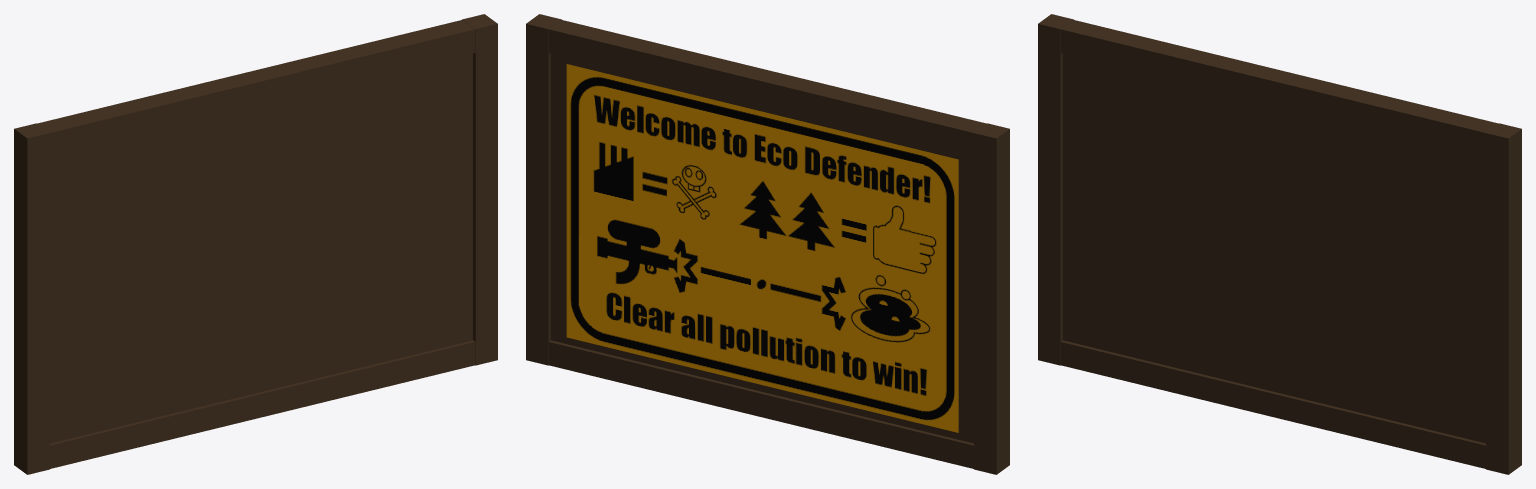
Rendered from sign.fbx.
3 views of the same model, side by side, from view 1: azimuth 30°, elevation 25°; view 2: azimuth 150°, elevation 25°; view 3: azimuth 330°, elevation 25° (orthographic).
Visible parts, largest first — view 1: Cube.003, Cube.002, Cube.001, Cube, Cube.004; view 2: eco_defender_sign, Cube.002, Cube.003, Cube.001, Cube, Cube.004; view 3: Cube.003, Cube.002, Cube.004, Cube, Cube.001.
Part boxes in pixels (x1=…): Cube.003: x1=50, y1=53, x2=472, y2=443; Cube.002: x1=37, y1=20, x2=475, y2=156; Cube.001: x1=14, y1=123, x2=49, y2=474; Cube: x1=50, y1=340, x2=475, y2=468; Cube.004: x1=462, y1=14, x2=497, y2=365; eco_defender_sign: x1=566, y1=64, x2=958, y2=432; Cube.002: x1=548, y1=20, x2=986, y2=156; Cube.003: x1=551, y1=53, x2=973, y2=443; Cube.001: x1=974, y1=123, x2=1009, y2=474; Cube: x1=548, y1=340, x2=973, y2=468; Cube.004: x1=526, y1=14, x2=561, y2=365; Cube.003: x1=1063, y1=53, x2=1485, y2=443; Cube.002: x1=1060, y1=20, x2=1498, y2=156; Cube.004: x1=1486, y1=123, x2=1521, y2=474; Cube: x1=1060, y1=340, x2=1485, y2=468; Cube.001: x1=1038, y1=14, x2=1073, y2=365.
Size of the model in its own units: 1260 by 861 by 62.
Materials: 6 (1 with a texture image).
